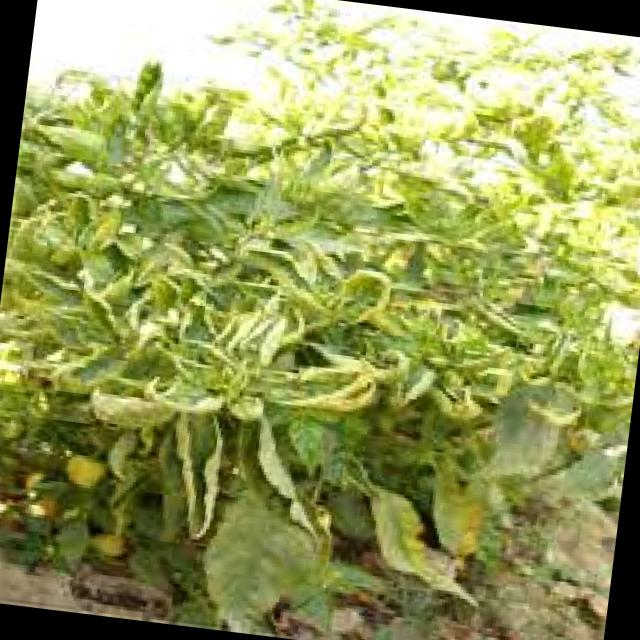Chilli_Leaf_Curl: (0, 0, 640, 640), (71, 281, 395, 560), (191, 488, 341, 640)
